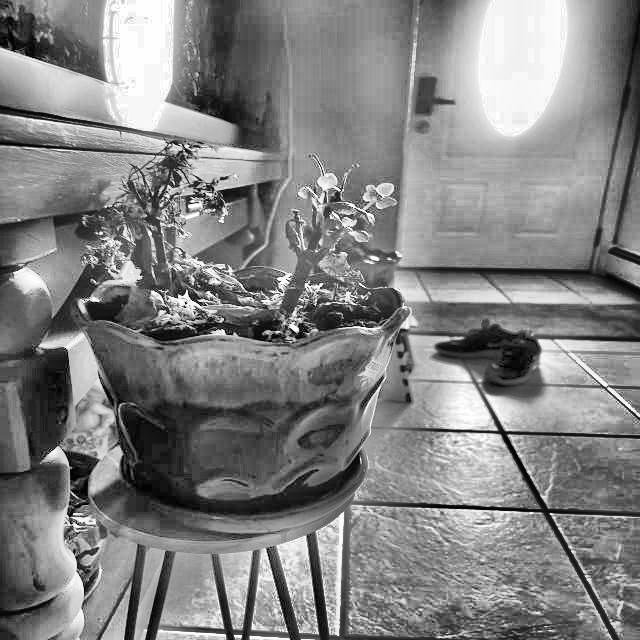plants: (91, 167, 422, 370)
